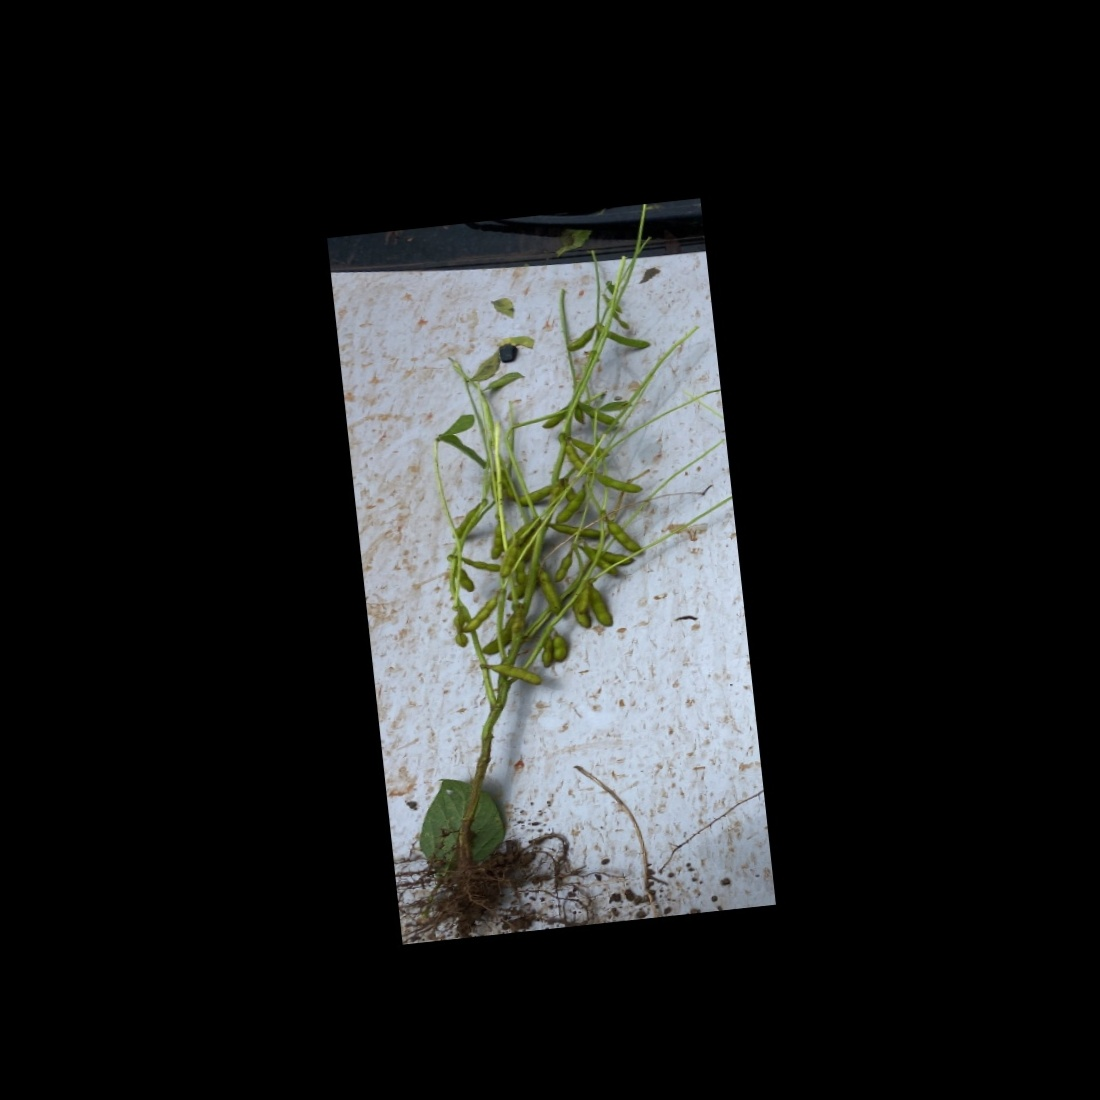pod: (489, 655, 543, 691), (461, 592, 505, 634), (607, 518, 646, 559), (552, 489, 590, 524), (595, 469, 642, 496), (537, 570, 562, 617), (609, 326, 652, 354), (590, 586, 614, 629), (565, 323, 598, 350), (552, 550, 578, 583), (450, 612, 470, 649), (464, 556, 502, 575), (552, 632, 569, 664), (538, 635, 554, 669), (460, 570, 478, 594), (613, 312, 631, 332)
soy: (355, 247, 718, 908)
